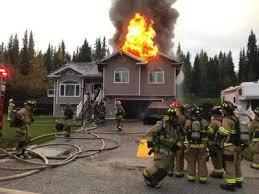fire: (117, 14, 161, 61), (133, 135, 154, 158)
